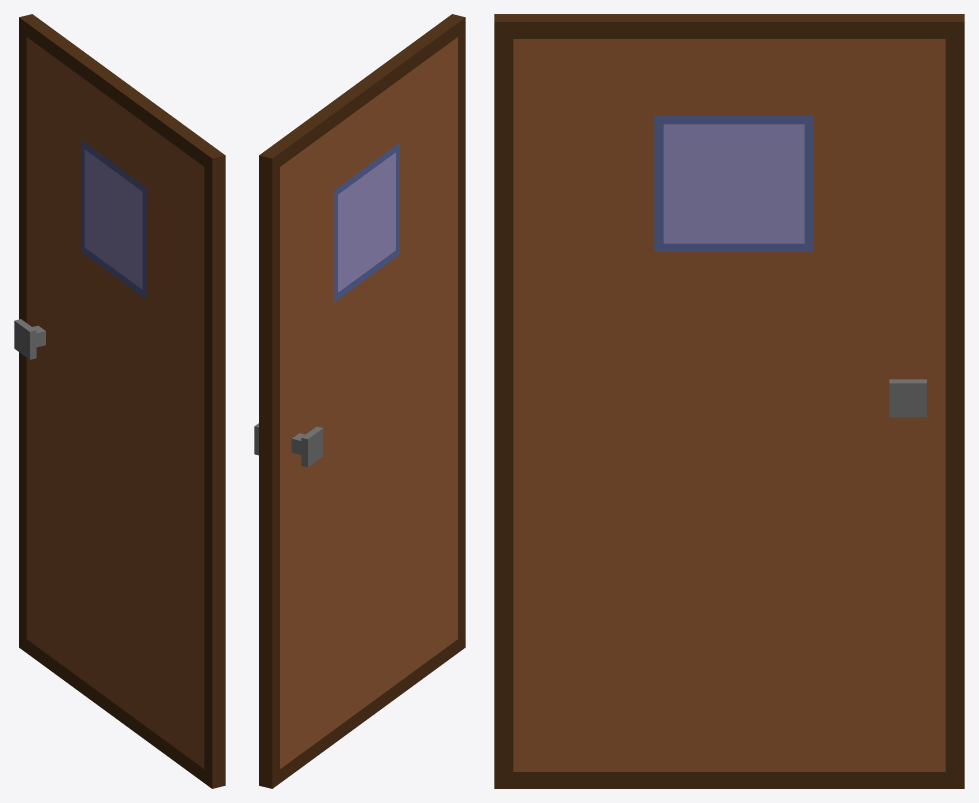
The model's file is SchoolPack-53-door.obj.
3 views of the same model, side by side, from view 1: azimuth 30°, elevation 25°; view 2: azimuth 150°, elevation 25°; view 3: azimuth 270°, elevation 25° (orthographic). The views are drawn at different scales.
Visible parts, largest first — view 1: door; view 2: door; view 3: door.
Part boxes in pixels (bbox=[...]): door: bbox=[14, 14, 225, 788]; door: bbox=[254, 14, 465, 788]; door: bbox=[494, 14, 964, 788].
Bounding box in the file's own units: 0.8 × 9 × 5.
1 material, 1 textured.
